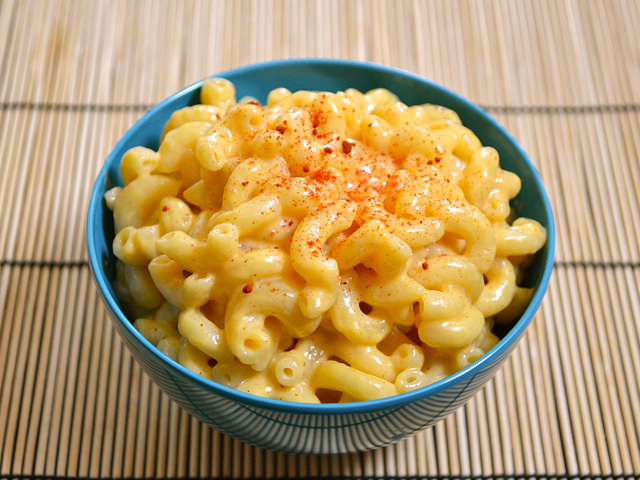macncheese: (99, 71, 546, 406)
